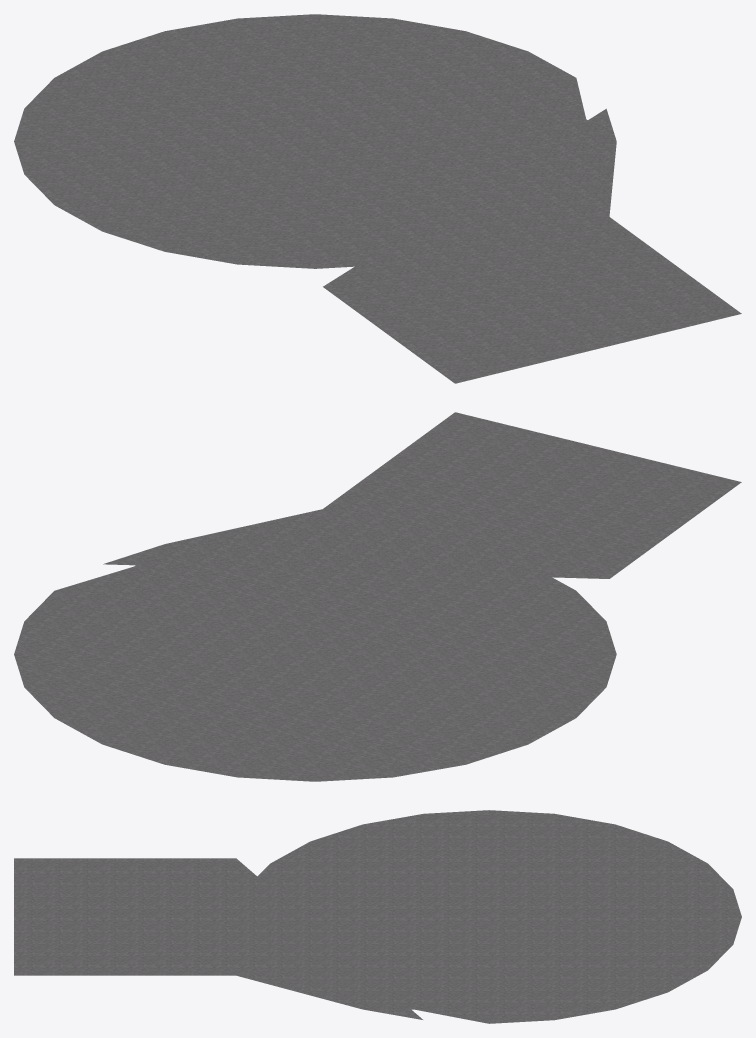
Rendered from cul_de_sac_turnaround.glb.
3 renders of one model, top to bottom at view 1: azimuth 30°, elevation 25°; view 2: azimuth 150°, elevation 25°; view 3: azimuth 270°, elevation 25°, orthographic. The views are drawn at different scales.
Parts seen in each view (by area): view 1: cul_de_sac_turnaround-col; view 2: cul_de_sac_turnaround-col; view 3: cul_de_sac_turnaround-col.
Part boxes in pixels (x1=…): cul_de_sac_turnaround-col: x1=14, y1=14, x2=741, y2=383; cul_de_sac_turnaround-col: x1=14, y1=412, x2=741, y2=781; cul_de_sac_turnaround-col: x1=14, y1=810, x2=741, y2=1023.
Size of the model in its own units: 18.2 by 0 by 26.2.
1 material, 1 textured.
